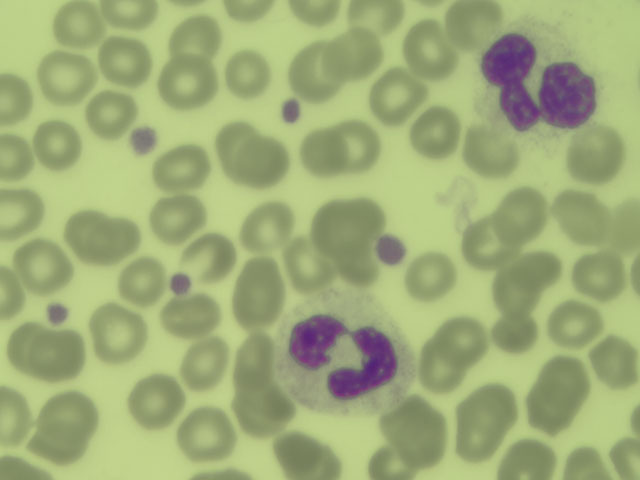Platelets: (131, 128, 157, 156), (381, 238, 407, 265), (169, 272, 191, 297), (44, 304, 67, 324), (282, 102, 303, 121)
RBC: (16, 240, 74, 294), (43, 388, 103, 440), (91, 305, 142, 365), (289, 43, 343, 98), (235, 262, 280, 326), (524, 379, 576, 433), (574, 250, 627, 302), (405, 24, 458, 75), (557, 192, 608, 245), (594, 336, 640, 394), (238, 136, 291, 186), (182, 406, 230, 461), (162, 57, 217, 105), (462, 216, 512, 267), (30, 424, 89, 467), (32, 330, 82, 380), (32, 119, 83, 168), (437, 317, 489, 365), (336, 121, 382, 174), (370, 72, 422, 118), (499, 194, 552, 238), (492, 270, 540, 318), (415, 108, 462, 157), (241, 202, 292, 247), (100, 37, 152, 81), (133, 378, 181, 425), (226, 51, 273, 99), (327, 32, 379, 75), (450, 2, 500, 46), (541, 357, 594, 398), (468, 126, 511, 176), (452, 389, 523, 419), (410, 251, 454, 299), (124, 258, 167, 307), (575, 137, 624, 180), (151, 200, 207, 237), (185, 336, 226, 386), (238, 388, 284, 432), (421, 345, 467, 389), (42, 55, 89, 98), (162, 302, 224, 334), (1, 191, 43, 238), (171, 17, 218, 59), (89, 223, 140, 261), (235, 334, 273, 384), (407, 420, 449, 465), (87, 94, 134, 134), (463, 412, 503, 459), (187, 241, 235, 280), (505, 442, 554, 480), (300, 131, 343, 174), (286, 240, 326, 286), (550, 304, 597, 343), (10, 320, 48, 368), (57, 2, 100, 44), (312, 205, 354, 248), (218, 1, 281, 29), (155, 151, 210, 183), (350, 2, 408, 32), (1, 386, 28, 448), (496, 313, 540, 351), (386, 405, 435, 439), (516, 253, 562, 289), (215, 123, 250, 170), (365, 448, 415, 480), (1, 72, 30, 127), (100, 1, 155, 29), (340, 244, 376, 285), (271, 434, 313, 469), (1, 261, 23, 322), (1, 136, 32, 179), (300, 450, 343, 480), (355, 197, 386, 237), (612, 205, 640, 248), (568, 449, 604, 480), (288, 1, 341, 22), (65, 215, 103, 243), (616, 438, 640, 479)
WBC: (285, 303, 413, 409), (487, 29, 602, 132)
